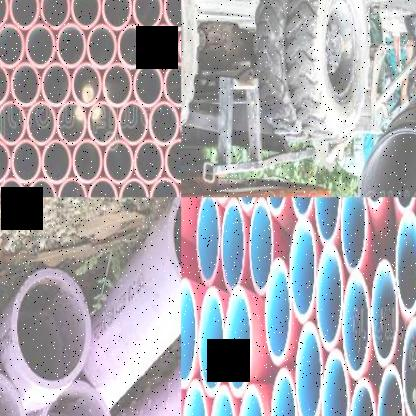pipe: (11, 270, 92, 388), (357, 126, 416, 198), (342, 270, 370, 380), (225, 286, 252, 398), (264, 256, 291, 365), (371, 259, 398, 367), (315, 244, 342, 351), (289, 217, 316, 322), (198, 287, 224, 396), (37, 380, 113, 416), (294, 321, 321, 416), (249, 197, 273, 296), (394, 211, 416, 318), (221, 197, 245, 294), (196, 198, 220, 286), (340, 198, 367, 274), (322, 348, 349, 416), (181, 278, 197, 388), (401, 316, 416, 416), (377, 364, 404, 416), (102, 62, 132, 108), (88, 101, 118, 146), (133, 63, 163, 108), (10, 62, 40, 107), (134, 140, 164, 184), (12, 140, 42, 184), (42, 140, 72, 184), (72, 140, 102, 184), (149, 102, 179, 146), (57, 102, 87, 146), (118, 102, 148, 146), (72, 63, 102, 107), (57, 23, 86, 68), (42, 63, 72, 106), (148, 25, 178, 68), (25, 25, 55, 68), (104, 140, 133, 184), (270, 368, 296, 416), (27, 102, 56, 145), (118, 25, 147, 68), (87, 25, 116, 68), (0, 370, 27, 416), (314, 197, 340, 244), (0, 102, 26, 146), (348, 377, 376, 416), (0, 24, 24, 68), (182, 379, 207, 416), (132, 0, 162, 30), (70, 0, 100, 29), (102, 0, 131, 29), (40, 0, 70, 28), (10, 0, 40, 28), (209, 385, 236, 416), (238, 385, 265, 416), (164, 140, 181, 184), (164, 63, 181, 106), (27, 177, 57, 197), (87, 178, 118, 197), (119, 178, 149, 197), (57, 178, 87, 197), (149, 178, 179, 197), (163, 0, 181, 30), (290, 197, 315, 218), (0, 178, 26, 197), (0, 140, 11, 184), (0, 62, 10, 106), (0, 0, 8, 29)
